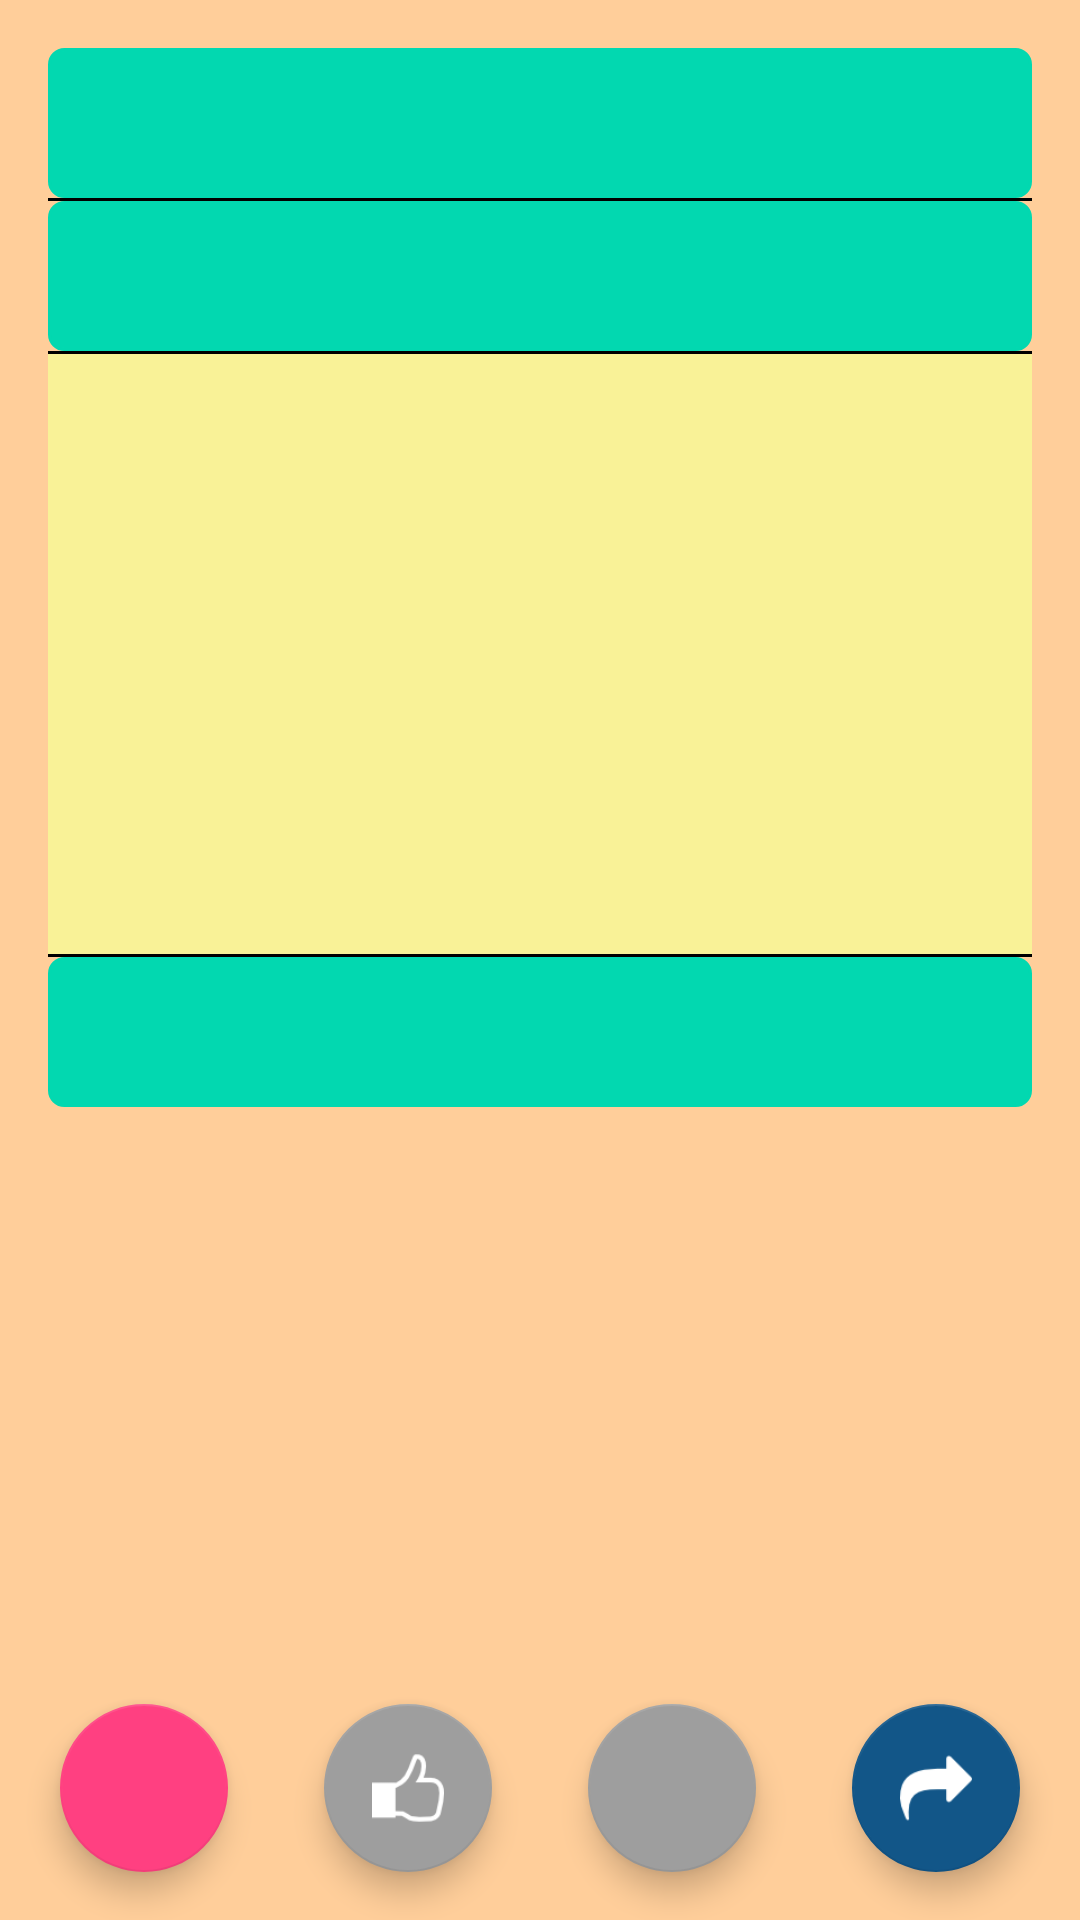

Icon bounding boxes for this 1080 x 1920 phone screenshot, format box(x1, y1, x2, y2):
like: box(324, 1704, 492, 1872)
next: box(852, 1704, 1020, 1872)
